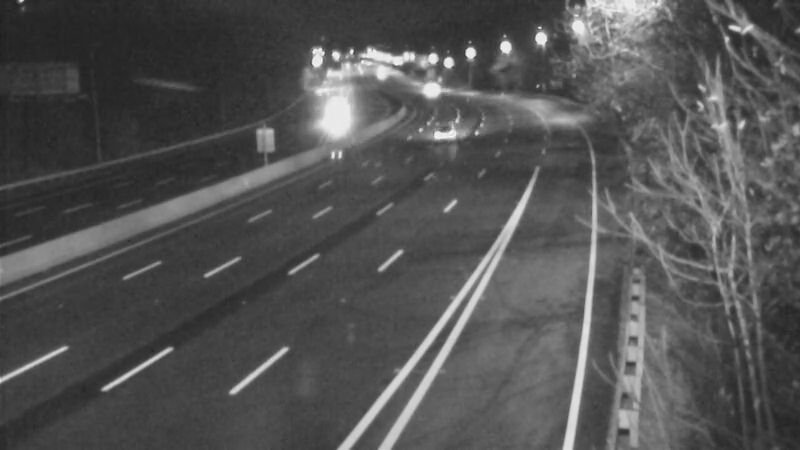vehicle: (357, 53, 407, 103), (395, 63, 445, 113), (425, 110, 475, 160), (311, 97, 361, 147)
